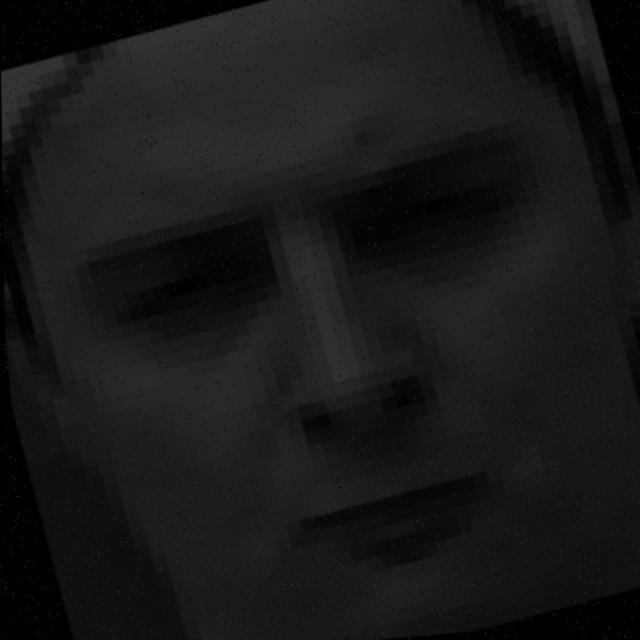Disgust: (35, 77, 637, 603)
